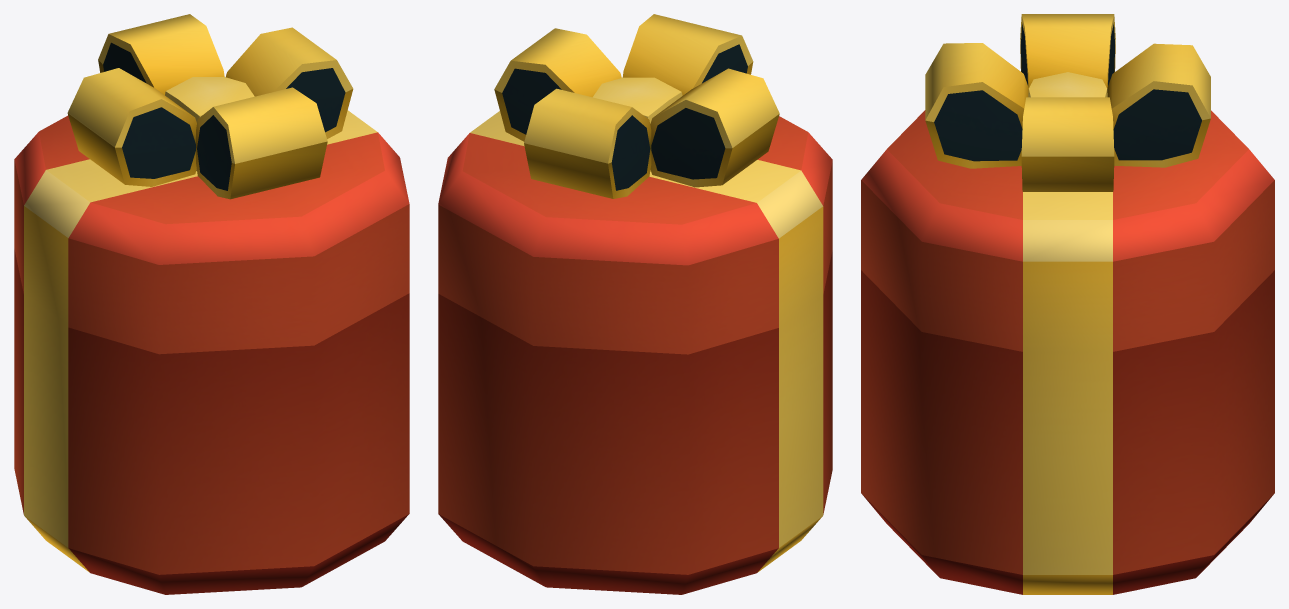
File: presi_round_2_red.fbx
3 renders of one model, left to right at view 1: azimuth 30°, elevation 25°; view 2: azimuth 150°, elevation 25°; view 3: azimuth 270°, elevation 25°, orthographic.
Parts seen in each view (by area): view 1: presi_round_2_red; view 2: presi_round_2_red; view 3: presi_round_2_red.
Boxes of the visible parts, bbox=[...] form: presi_round_2_red: bbox=[14, 14, 409, 594]; presi_round_2_red: bbox=[438, 14, 832, 594]; presi_round_2_red: bbox=[861, 14, 1274, 594].
Bounding box in the file's own units: 93.59 × 123 × 100.
Materials: 1 (1 with a texture image).
